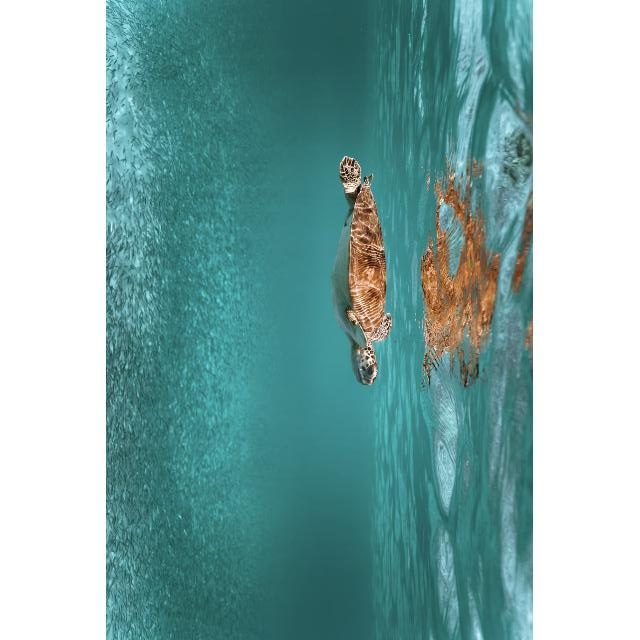turtle: (329, 156, 391, 387)
